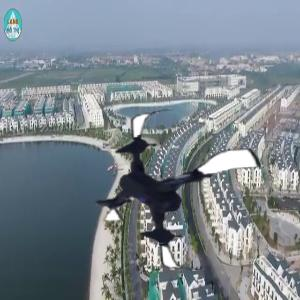drone: (91, 102, 266, 277)
